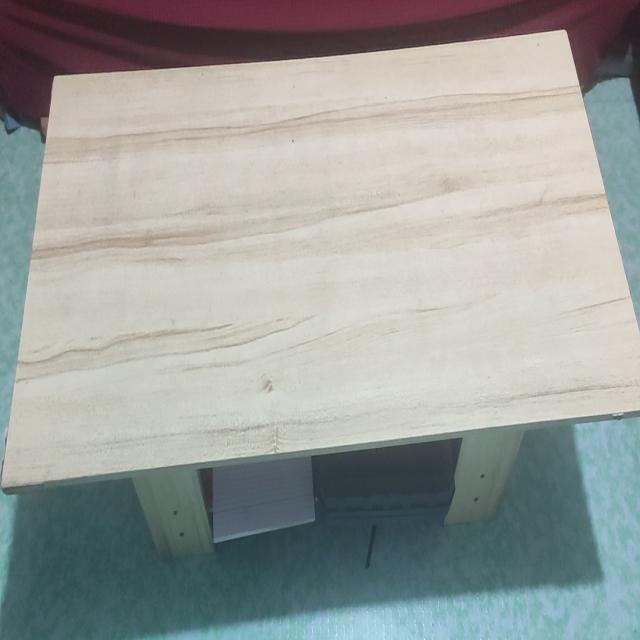table: (0, 22, 640, 576)
